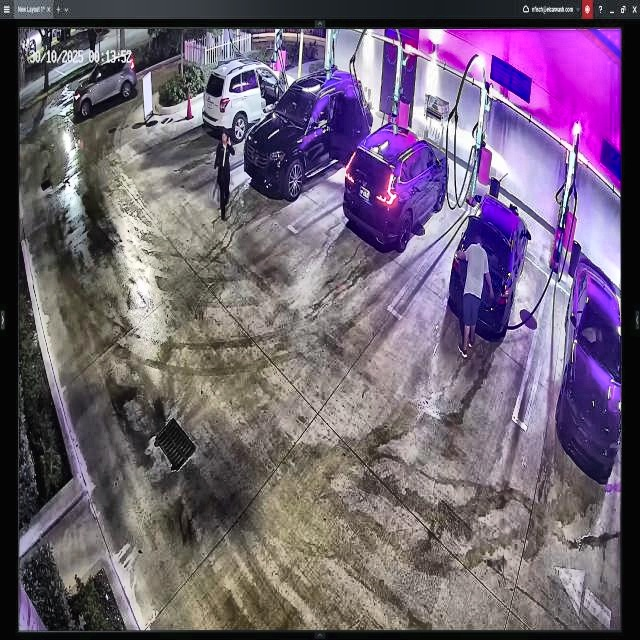Car: (242, 72, 372, 198), (343, 120, 449, 245), (450, 191, 526, 343)
